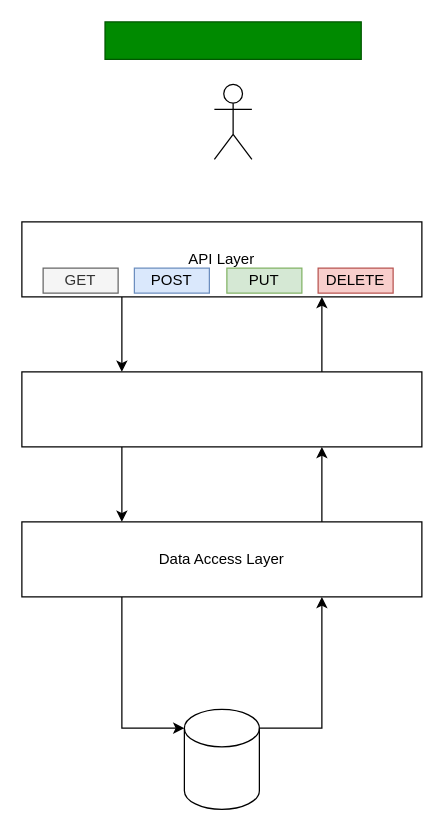
This 444x831 diagram has some shape labels left out. The shapes that lost their labels are listed below. From the top down, each one's centre as x and y in pixels, then its label:
At (x=232, y=40): "SpringBoot Student App Demo".
At (x=232, y=121): "Client".
At (x=221, y=409): "Service Layer".
